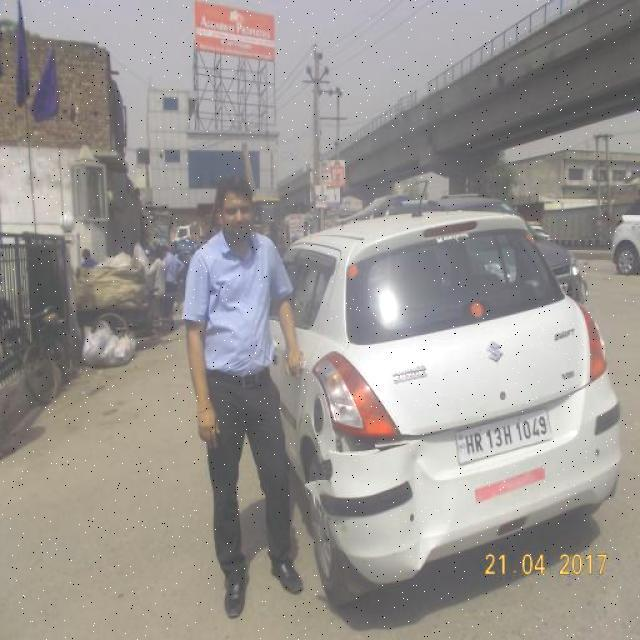car damage: (405, 458, 447, 569), (310, 452, 352, 546), (332, 433, 434, 460)
